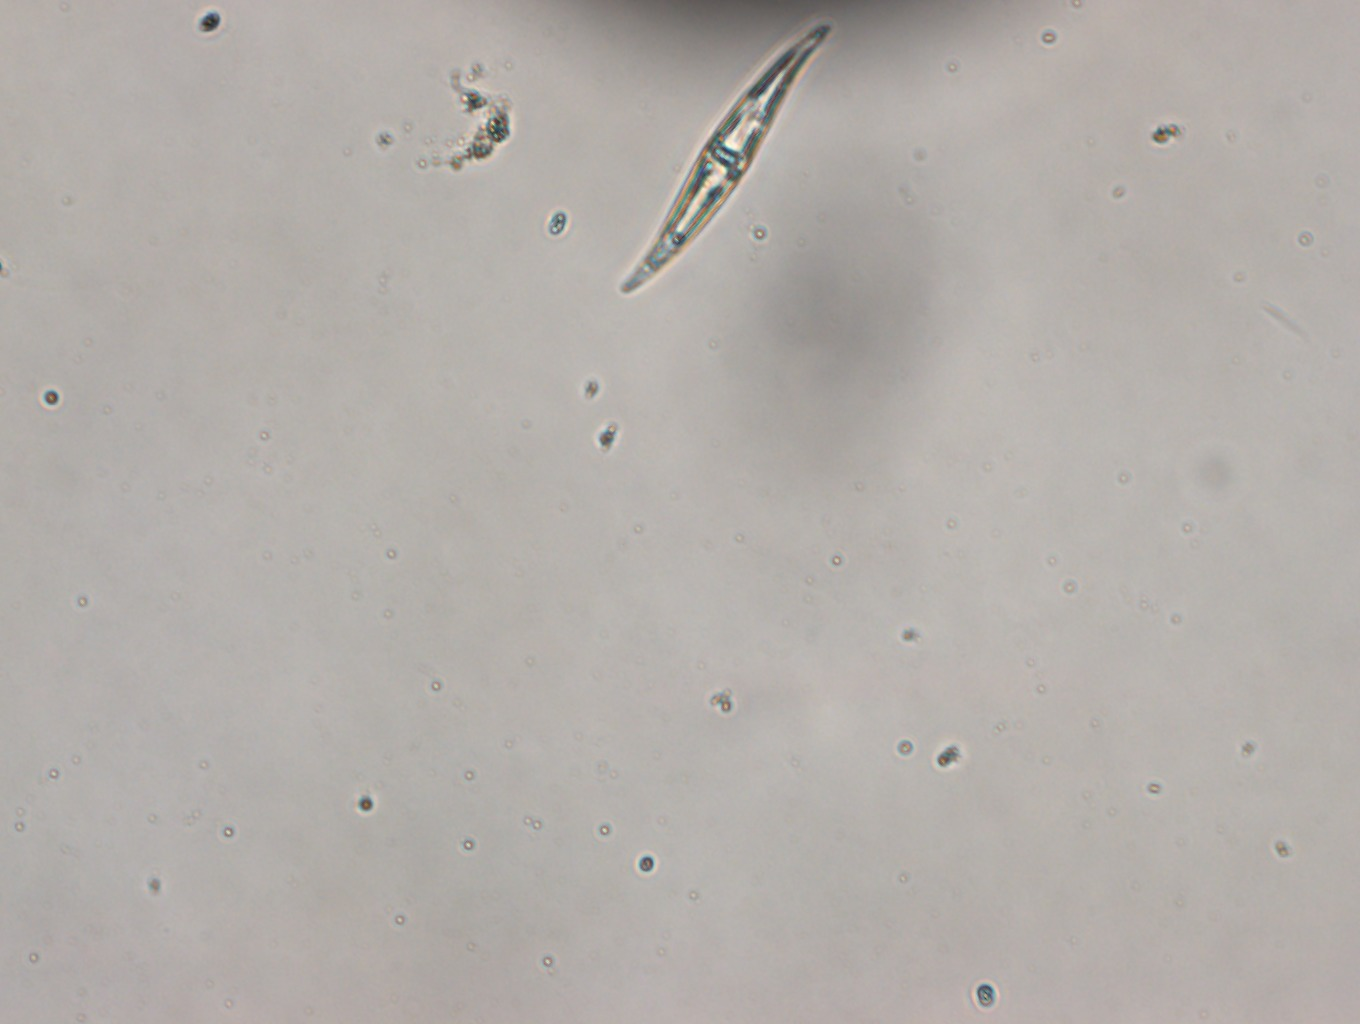pleurosigma pelagicum: (617, 22, 836, 294)
